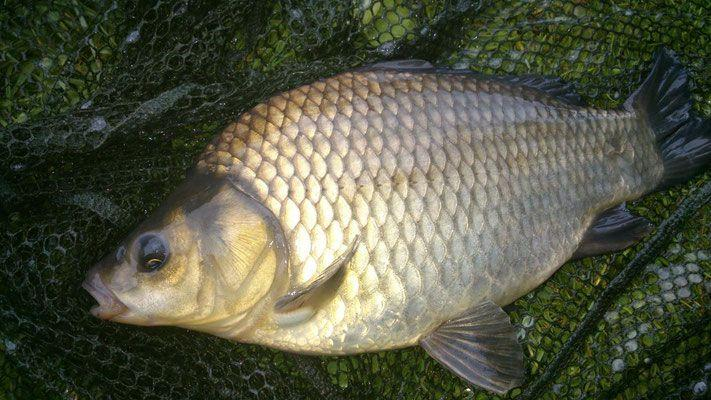Grass Carp: (78, 51, 710, 395)
